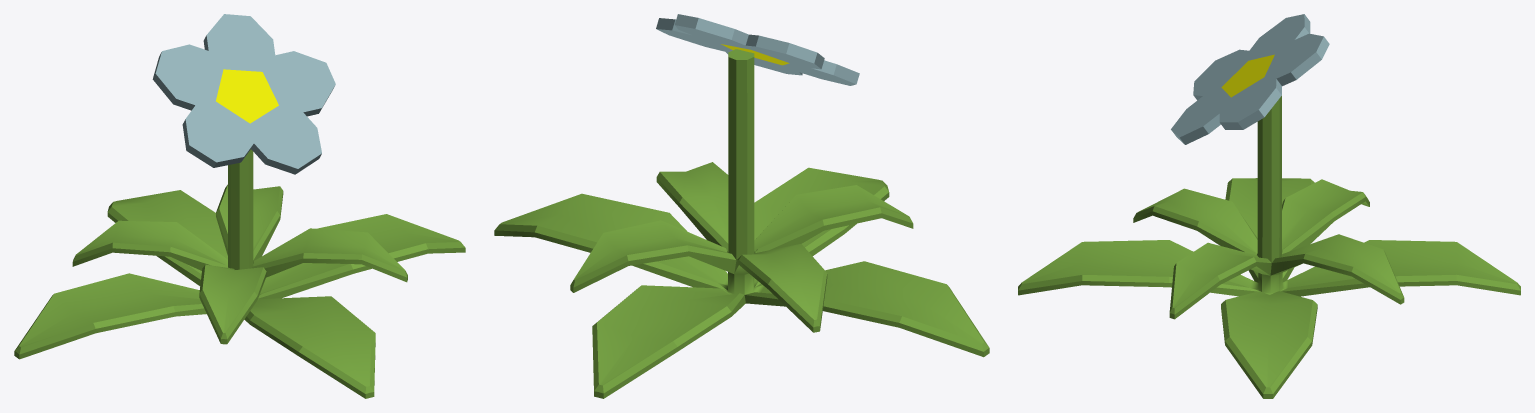
File: BlueTallFlower.fbx
The picture shows the model from 3 angles, left to right: view 1: azimuth 30°, elevation 25°; view 2: azimuth 150°, elevation 25°; view 3: azimuth 270°, elevation 25°; orthographic projection. The views are drawn at different scales.
Visible parts, largest first — view 1: BlueFlower; view 2: BlueFlower; view 3: BlueFlower.
Boxes of the visible parts, x1,y1,x2,y2 form: BlueFlower: [14, 14, 465, 398]; BlueFlower: [494, 14, 989, 398]; BlueFlower: [1018, 14, 1520, 398].
Bounding box in the file's own units: 2.62 × 1.51 × 2.62.
